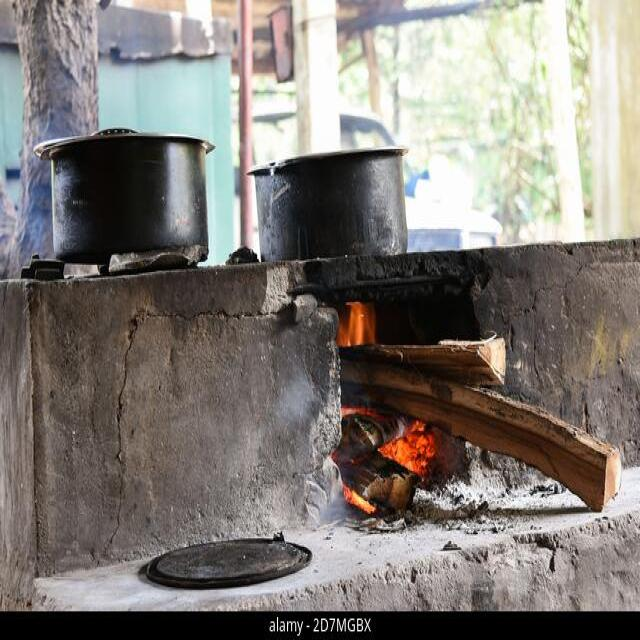fire: (336, 300, 375, 347)
